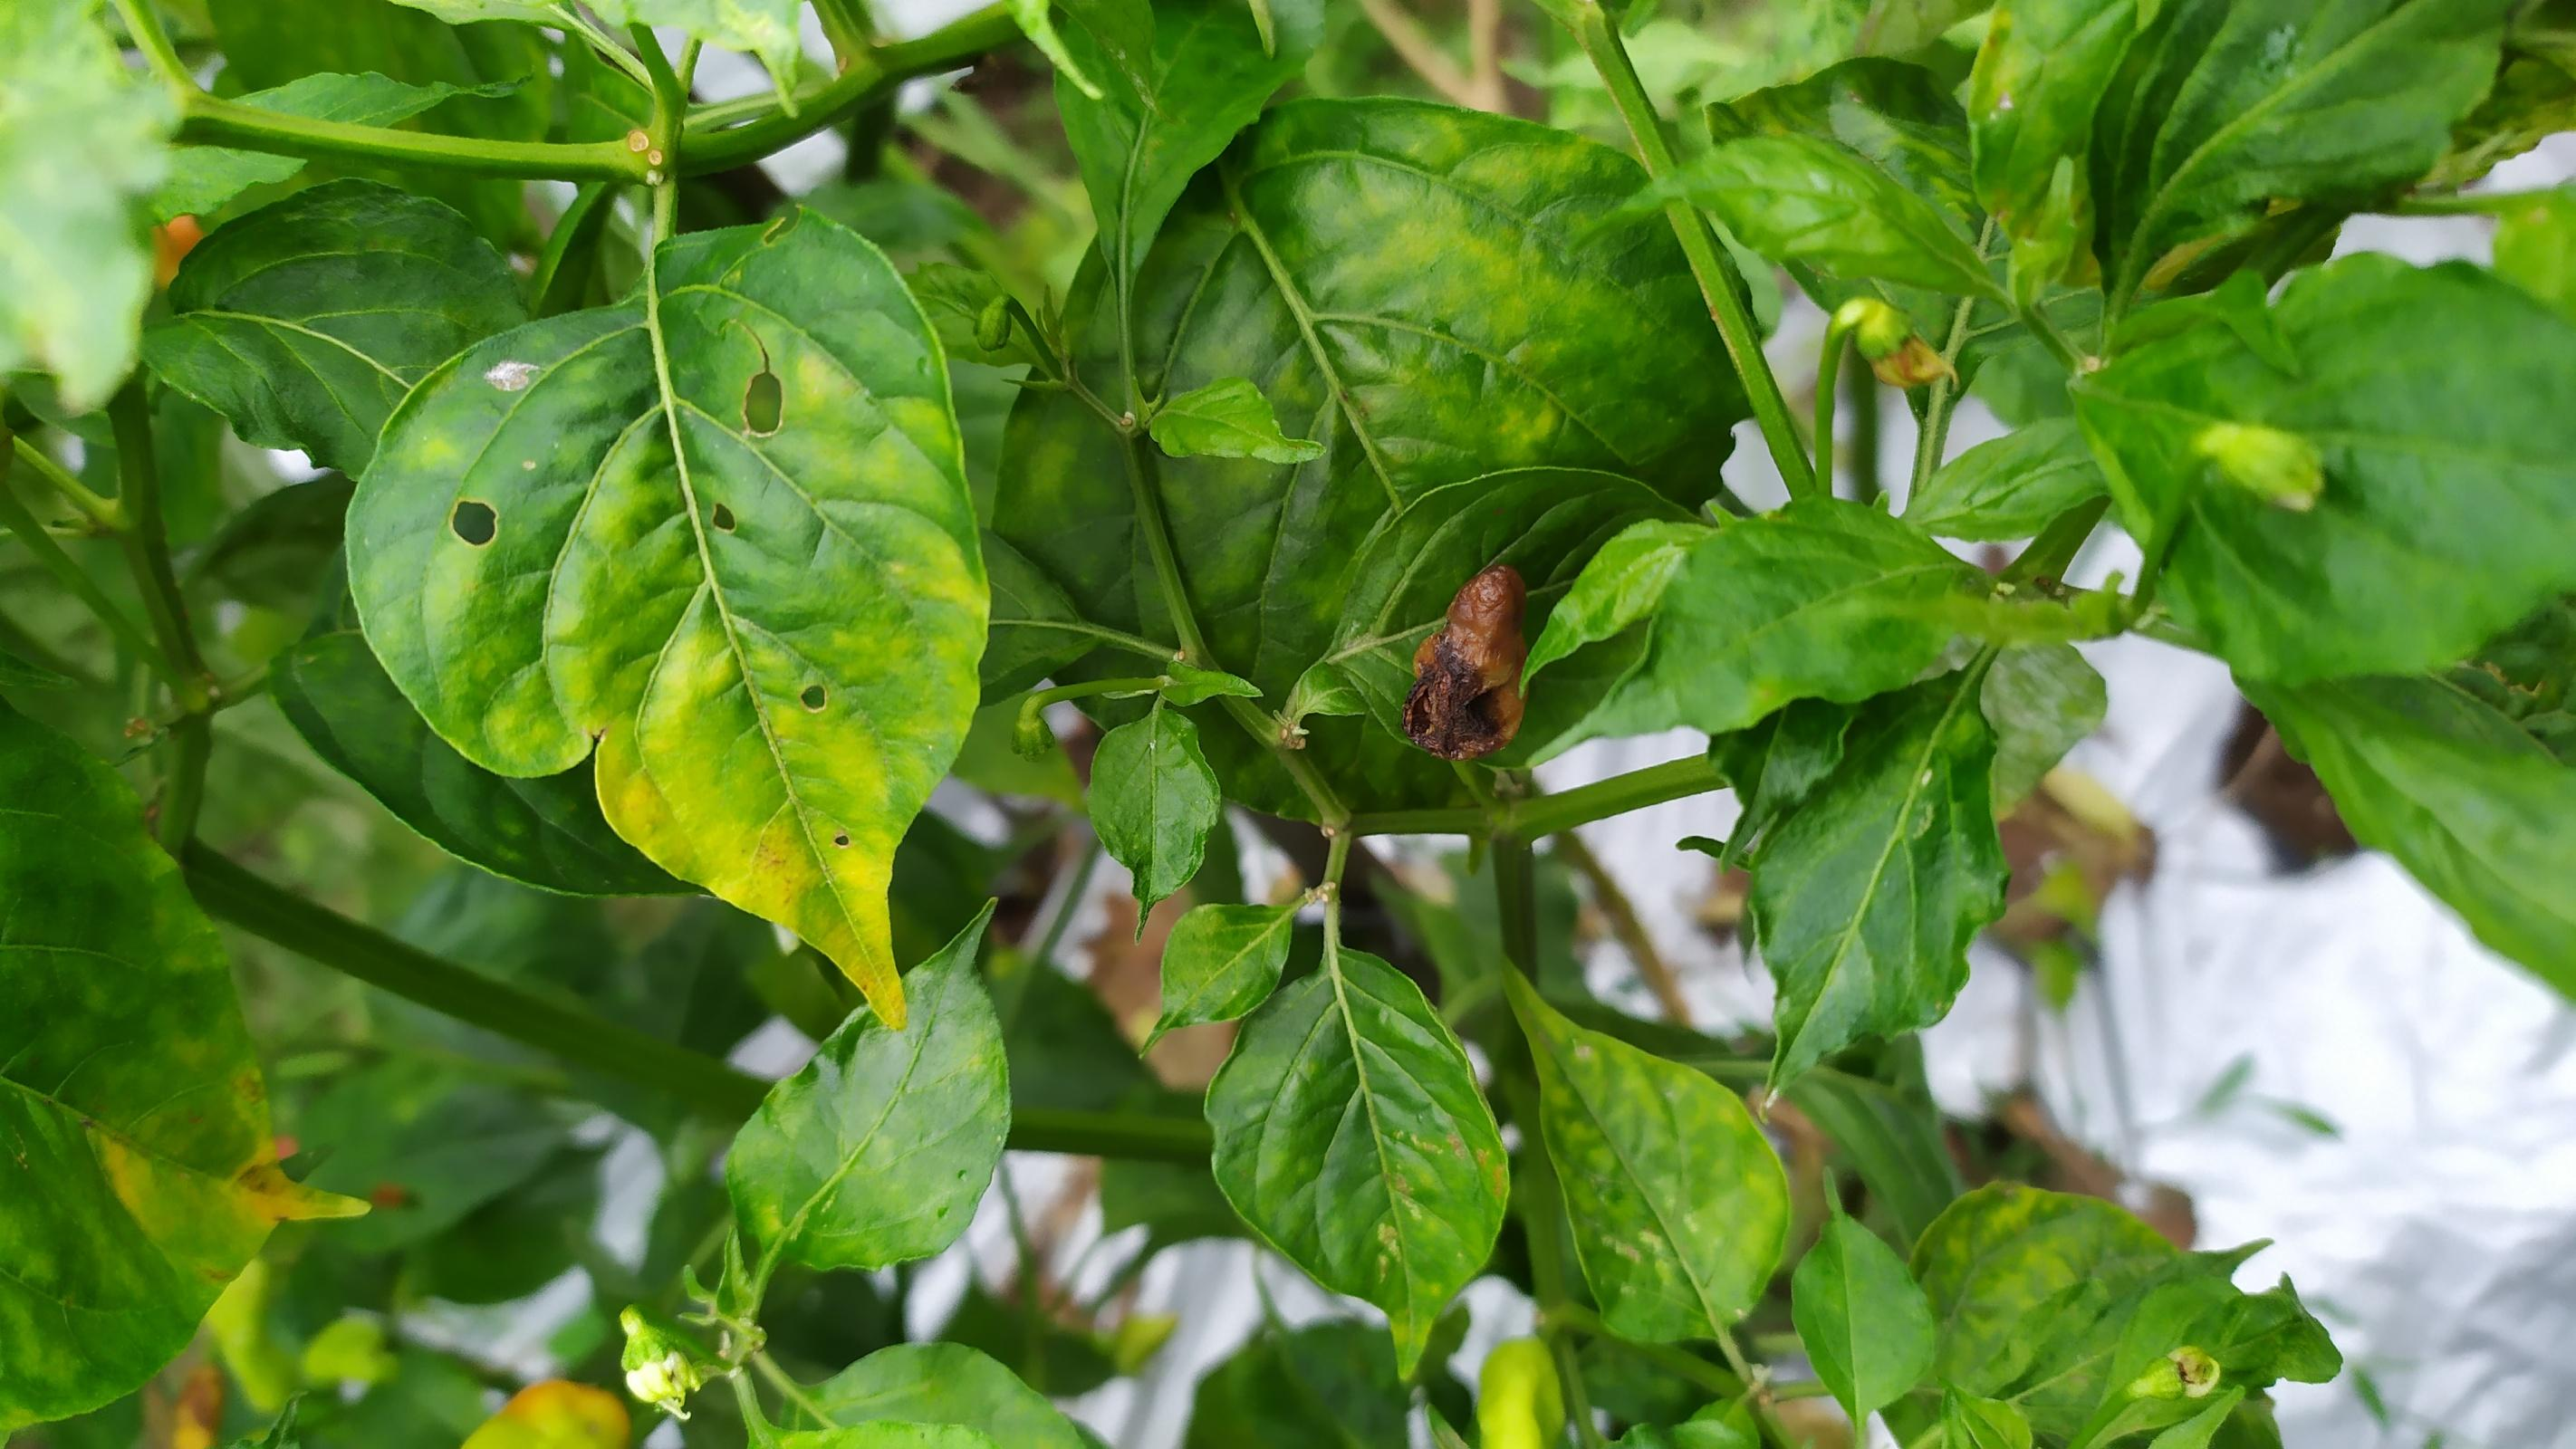antraknosa: (1401, 563, 1527, 763)
